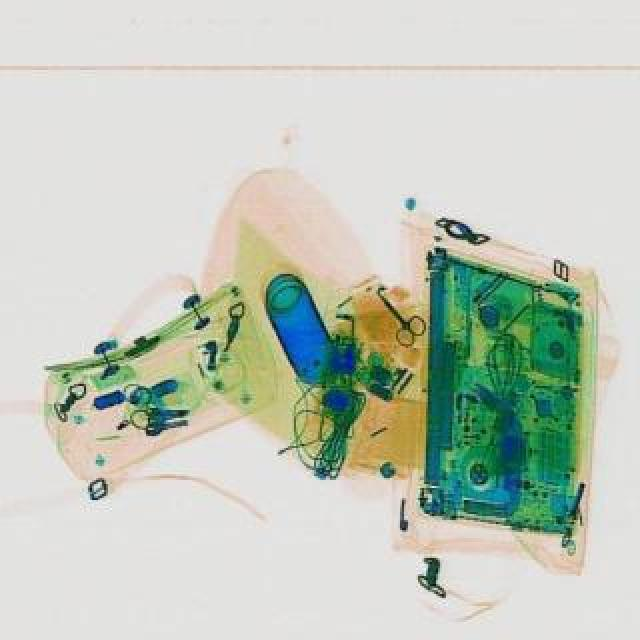pliers: (360, 280, 430, 348)
